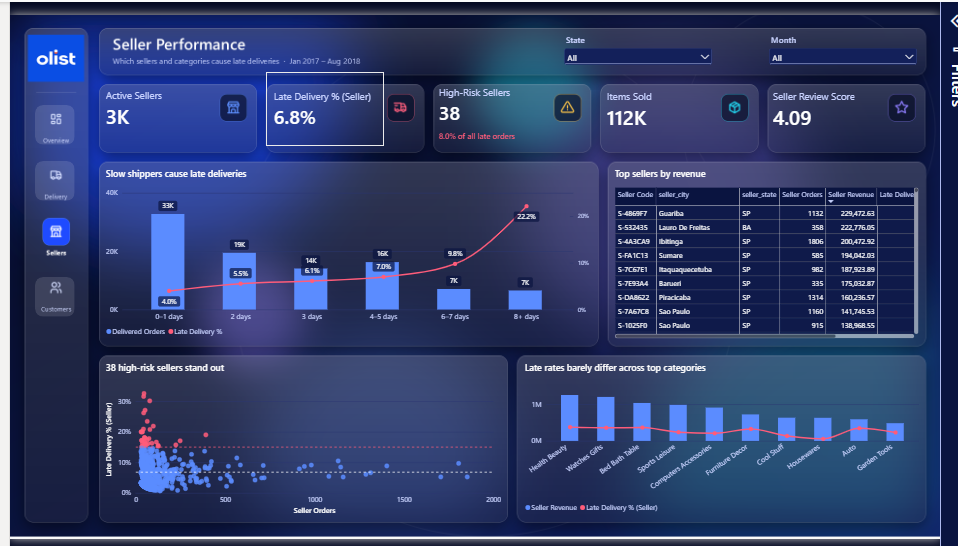

What the dashboard file says about the page in this screenshot:
{"tool":"powerbi","page":{"name":"Sellers","canvas":[1920,1080],"ordinal":3},"visuals":[{"type":"cardVisual","fields":{"Data":["_Measures.Active Sellers Label"]},"box":[182.2,117,233.7,153.2],"z":0},{"type":"slicer","fields":{"Values":["Calendar.Year-Month"]},"box":[1563.1,39.3,313.8,80.5],"z":1000},{"type":"slicer","fields":{"Values":["Customers.customer_state"]},"box":[1140.5,38.9,315.4,79.9],"z":2000},{"type":"cardVisual","fields":{"Data":["_Measures.Seller Review Score"]},"box":[1559.5,118.8,248.4,153.4],"z":3000},{"type":"cardVisual","fields":{"Data":["_Measures.Items Sold"]},"box":[1216.1,118.8,216,153.4],"z":4000},{"type":"cardVisual","fields":{"Data":["_Measures.High-Risk Sellers"]},"box":[868.3,149,248.4,153.4],"z":5000},{"type":"cardVisual","fields":{"Data":["_Measures.Late Delivery % (Seller)"]},"box":[527.8,117,243.5,153.2],"z":6000},{"type":"actionButton","box":[51.8,302.4,82.1,82.1],"z":7000},{"type":"actionButton","box":[51.8,302.4,82.1,82.1],"z":8000},{"type":"actionButton","box":[51.8,185.8,82.1,82.1],"z":9000},{"type":"actionButton","box":[51.8,540,82.1,82.1],"z":10000},{"type":"actionButton","box":[51.8,302.4,82.1,82.1],"z":11000},{"type":"actionButton","box":[51.8,185.8,82.1,82.1],"z":12000},{"type":"actionButton","box":[51.8,540,82.1,82.1],"z":13000},{"type":"lineClusteredColumnComboChart","title":"Slow shippers cause late deliveries","fields":{"Category":["Orders.Handling Bucket"],"Y":["_Measures.Delivered Orders"],"Y2":["_Measures.Late Delivery %"]},"box":[181.4,302.4,1034.6,382.3],"z":13001},{"type":"tableEx","title":"Top sellers by revenue","fields":{"Values":["Sellers.Seller Code","Sellers.seller_city","Sellers.seller_state","_Measures.Seller Orders","_Measures.Seller Revenue","_Measures.Late Delivery % (Seller)","_Measures.Seller Review Score"]},"box":[1233.4,302.4,658.8,382.3],"z":13002},{"type":"scatterChart","title":"38 high-risk sellers stand out","fields":{"Category":["Sellers.Seller Code"],"X":["_Measures.Seller Orders"],"Y":["_Measures.Late Delivery % (Seller)"]},"box":[181.5,702.6,848.2,346],"z":13003},{"type":"lineClusteredColumnComboChart","title":"Late rates barely differ across top categories","fields":{"Category":["Products.Category"],"Y":["_Measures.Seller Revenue"],"Y2":["_Measures.Late Delivery % (Seller)"]},"box":[1046.5,702.6,846.1,346],"z":13004},{"type":"actionButton","box":[51.8,650.2,82.1,84.2],"z":13005}]}

Visuals, with their boxes on the page's 1920x1080 design canvas (x1, y1, x2, y2). These are canvas units, not pixel positions in the 958x546 screenshot, which may show the page scaled, cropped or inside an application window:
cardVisual - _Measures.Active Sellers Label: 182,117,416,270
slicer - Calendar.Year-Month: 1563,39,1877,120
slicer - Customers.customer_state: 1140,39,1456,119
cardVisual - _Measures.Seller Review Score: 1560,119,1808,272
cardVisual - _Measures.Items Sold: 1216,119,1432,272
cardVisual - _Measures.High-Risk Sellers: 868,149,1117,302
cardVisual - _Measures.Late Delivery % (Seller): 528,117,771,270
actionButton: 52,302,134,384
actionButton: 52,302,134,384
actionButton: 52,186,134,268
actionButton: 52,540,134,622
actionButton: 52,302,134,384
actionButton: 52,186,134,268
actionButton: 52,540,134,622
"Slow shippers cause late deliveries" lineClusteredColumnComboChart: 181,302,1216,685
"Top sellers by revenue" tableEx: 1233,302,1892,685
"38 high-risk sellers stand out" scatterChart: 182,703,1030,1049
"Late rates barely differ across top categories" lineClusteredColumnComboChart: 1046,703,1893,1049
actionButton: 52,650,134,734
